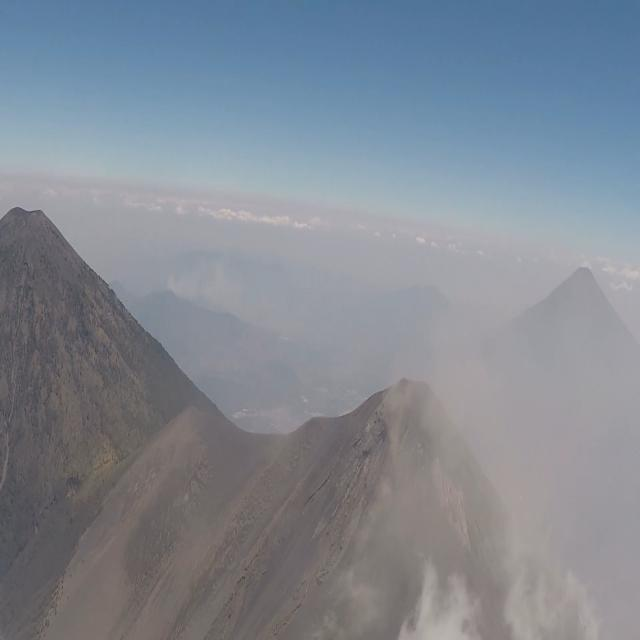Summit: (295, 367, 508, 552)
